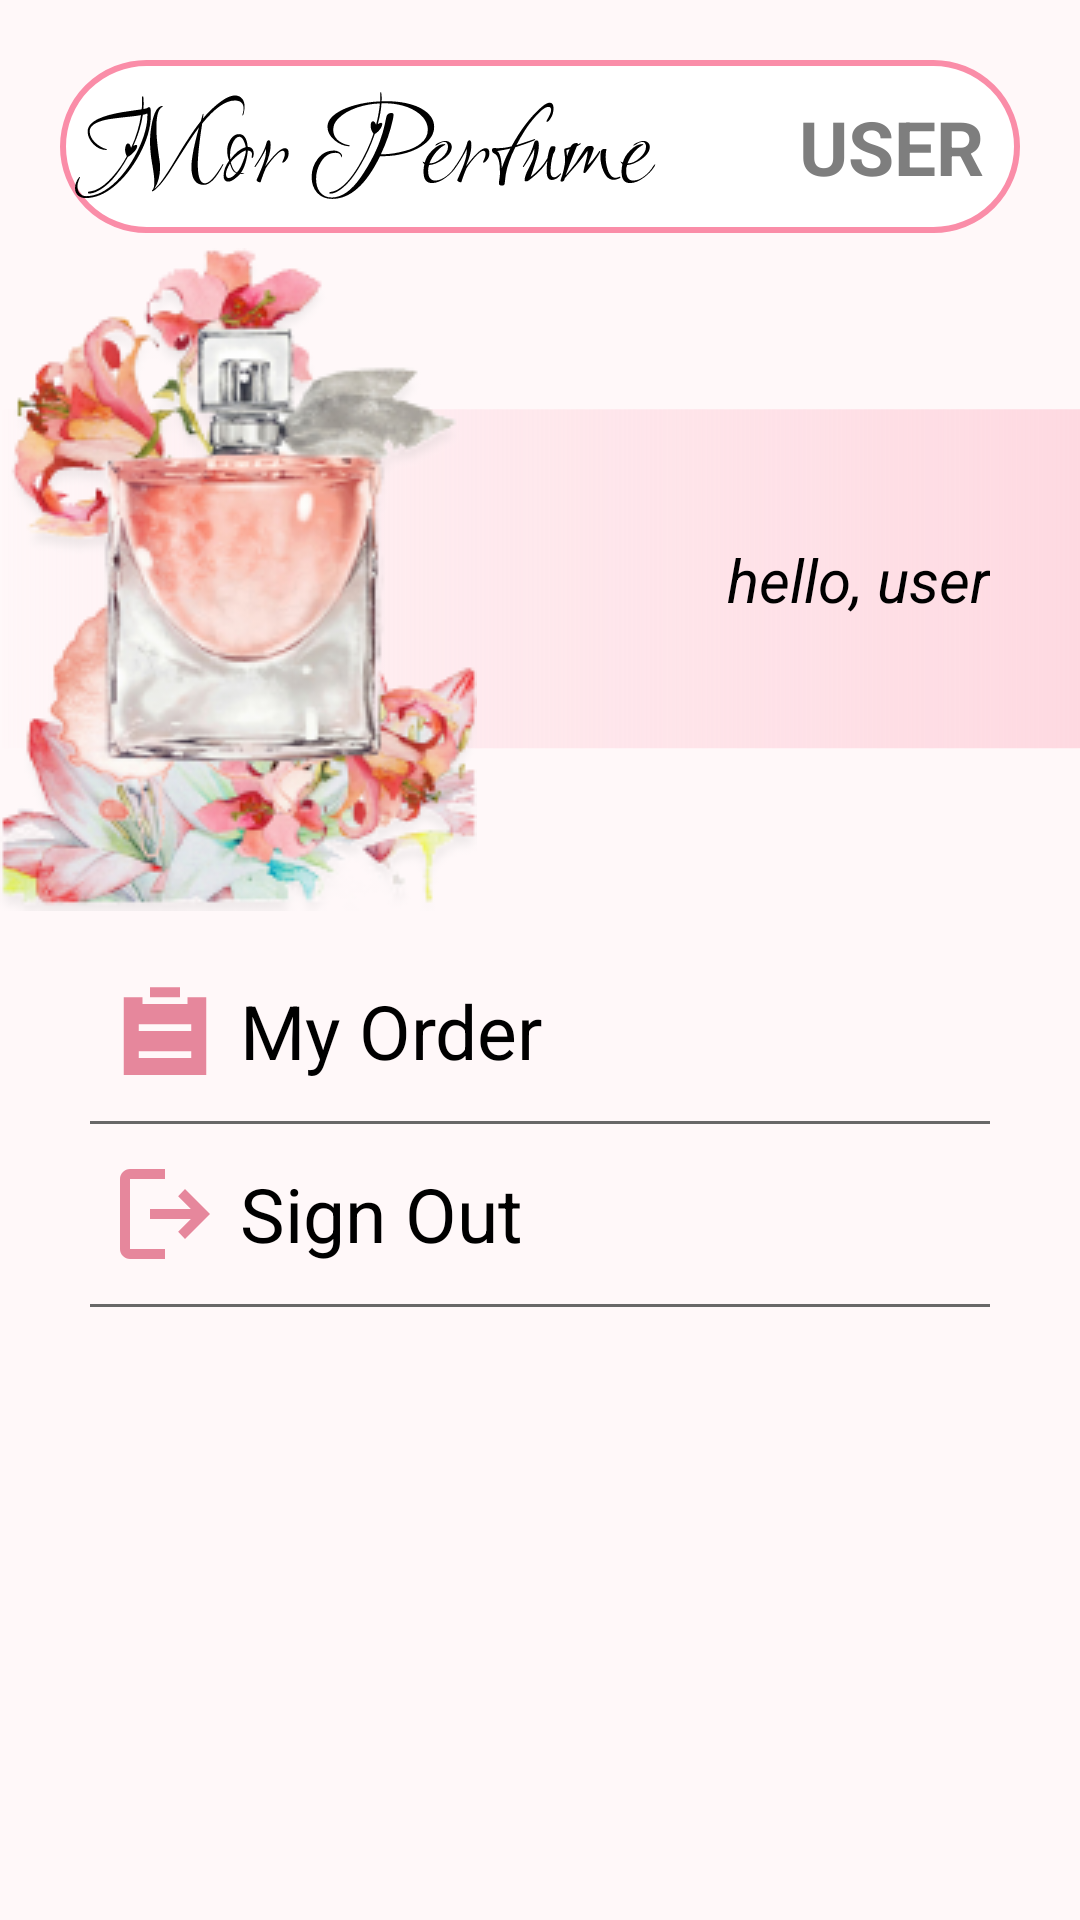

Where icons sit on this 1080 x 1920 app screen, as (x1, y1, x2, y2):
log out: (120, 1169, 210, 1259)
